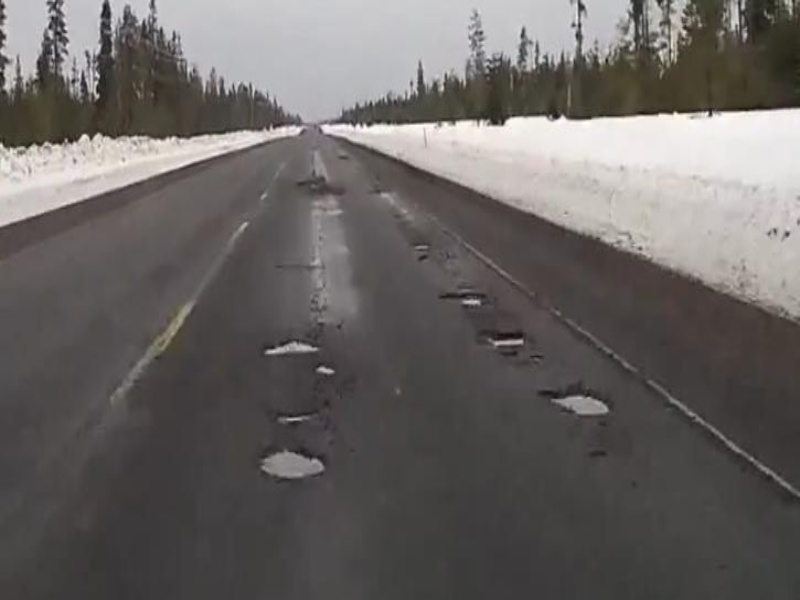pothole: (255, 446, 325, 483), (539, 388, 620, 419), (261, 338, 322, 360), (476, 330, 530, 350), (440, 290, 485, 309)
